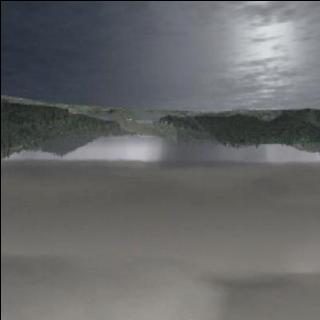Nimbostratus: (0, 137, 320, 320)
